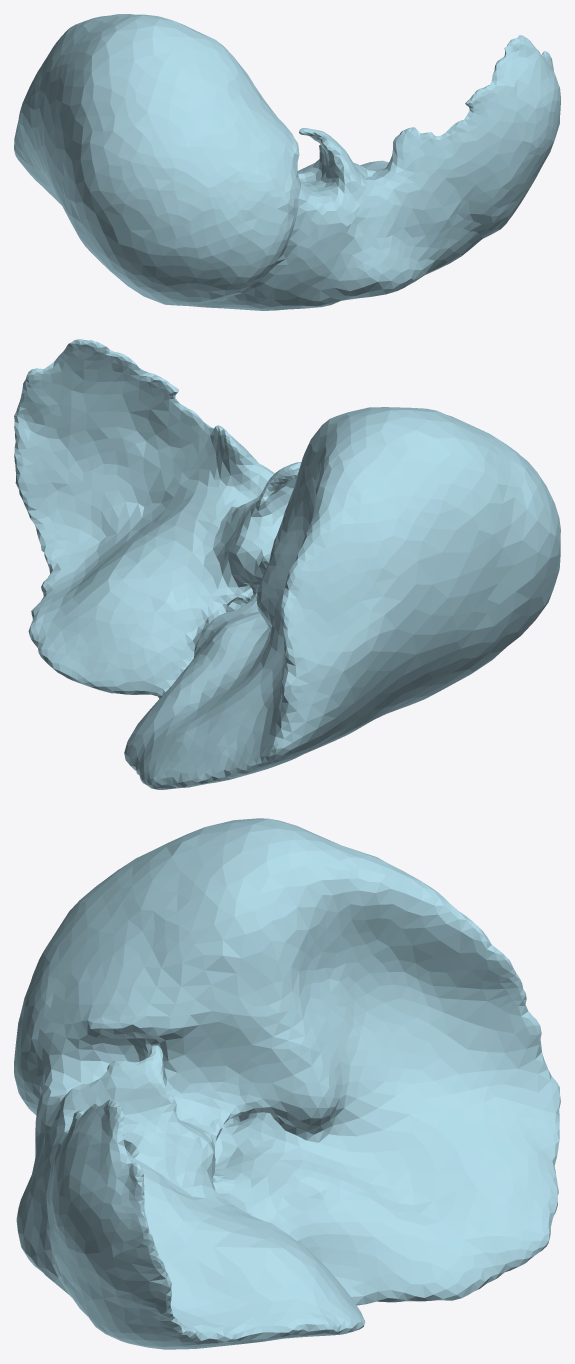
Rendered from liver.obj.
3 renders of one model, top to bottom at view 1: azimuth 30°, elevation 25°; view 2: azimuth 150°, elevation 25°; view 3: azimuth 270°, elevation 25°, orthographic. The views are drawn at different scales.
Visible parts, largest first — view 1: grp1; view 2: grp1; view 3: grp1.
Boxes of the visible parts, left/top/right/bottom form: grp1: left=14, top=14, right=560, bottom=310; grp1: left=14, top=339, right=560, bottom=789; grp1: left=14, top=818, right=560, bottom=1349.
Size of the model in its own units: 241 by 139 by 185.
